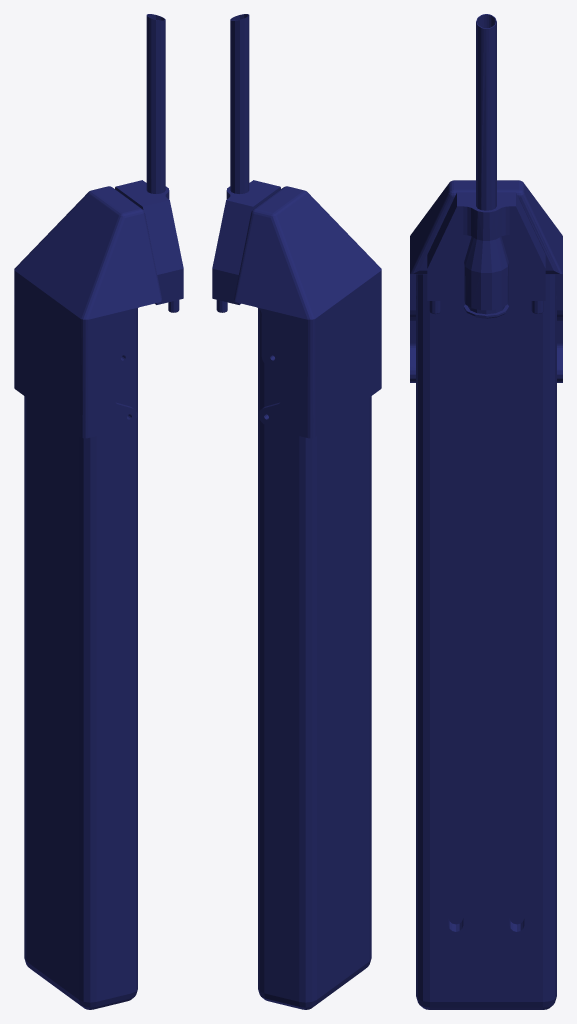
Rendered from pitch end link.OBJ.
3 views of the same model, side by side, from view 1: azimuth 30°, elevation 25°; view 2: azimuth 150°, elevation 25°; view 3: azimuth 270°, elevation 25° (orthographic). The views are drawn at different scales.
Visible parts, largest first — view 1: /ambf/env/psm1/pitch_end_link_pitch_end_link_pitch_end_link.003; view 2: /ambf/env/psm1/pitch_end_link_pitch_end_link_pitch_end_link.003; view 3: /ambf/env/psm1/pitch_end_link_pitch_end_link_pitch_end_link.003.
Boxes of the visible parts, left/top/right/bottom form: /ambf/env/psm1/pitch_end_link_pitch_end_link_pitch_end_link.003: left=14, top=14, right=183, bottom=1009; /ambf/env/psm1/pitch_end_link_pitch_end_link_pitch_end_link.003: left=212, top=14, right=381, bottom=1009; /ambf/env/psm1/pitch_end_link_pitch_end_link_pitch_end_link.003: left=410, top=14, right=562, bottom=1009.
Bounding box in the file's own units: 0.0795 × 0.5753 × 0.0775.
